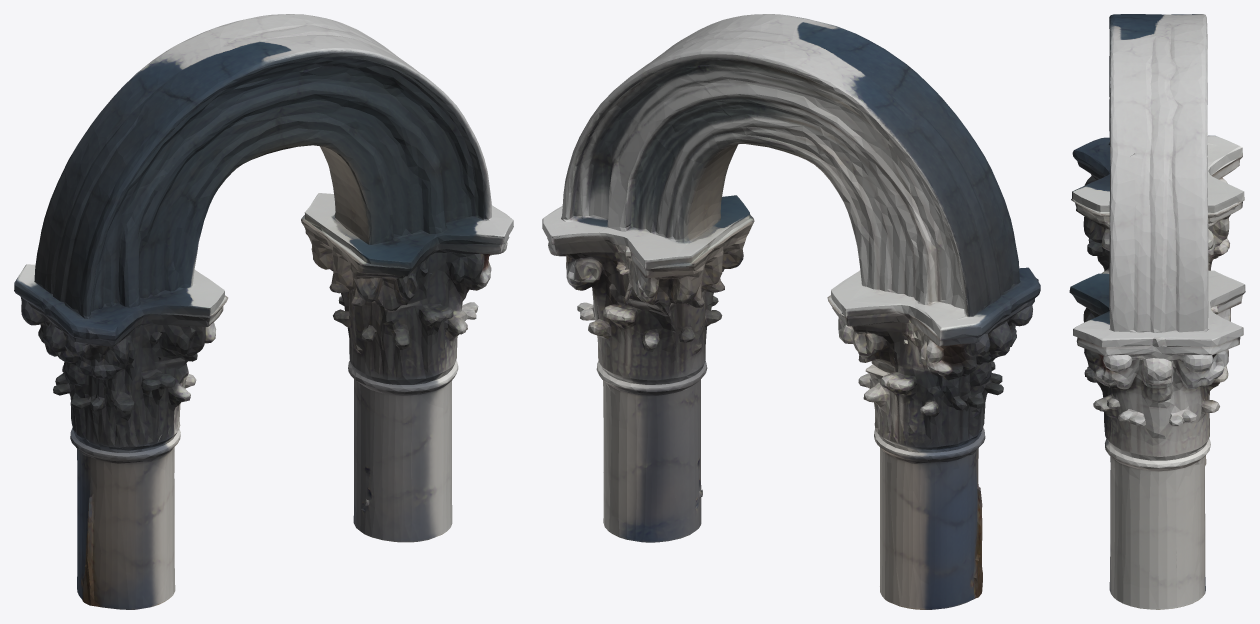
The model's file is 拱型石柱.glb.
3 renders of one model, left to right at view 1: azimuth 30°, elevation 25°; view 2: azimuth 150°, elevation 25°; view 3: azimuth 270°, elevation 25°, orthographic. The views are drawn at different scales.
Visible parts, largest first — view 1: world; view 2: world; view 3: world.
Part boxes in pixels (x1,y1,x2,y2): world: (14, 14, 513, 609); world: (542, 14, 1040, 609); world: (1069, 14, 1245, 609).
Size of the model in its own units: 0.8927 by 1 by 0.3258.
Materials: 1 (1 with a texture image).
